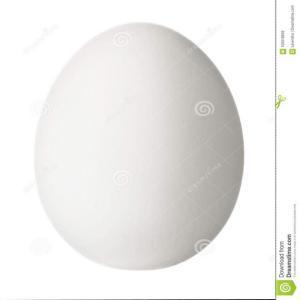Egg: (29, 18, 248, 276)
